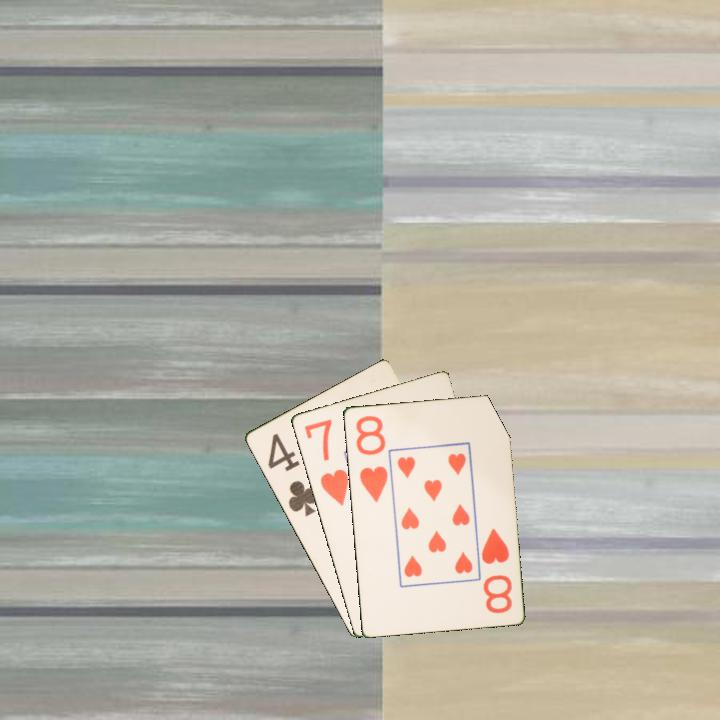4c: (263, 430, 321, 519)
7h: (300, 415, 351, 509)
8h: (352, 411, 390, 505), (477, 524, 515, 616)
